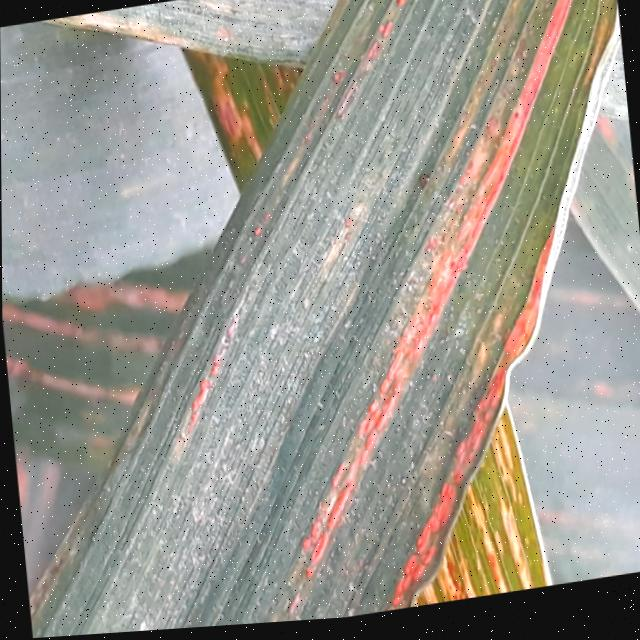yellow_rust: (27, 0, 614, 639), (501, 232, 640, 592), (2, 245, 206, 460), (53, 0, 337, 73), (178, 49, 305, 195), (571, 121, 640, 325)
